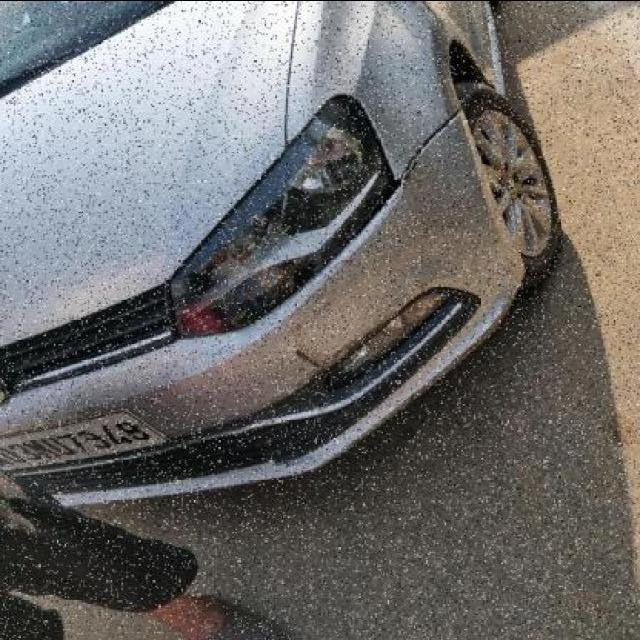front-bumper-dent: (290, 116, 539, 458)
